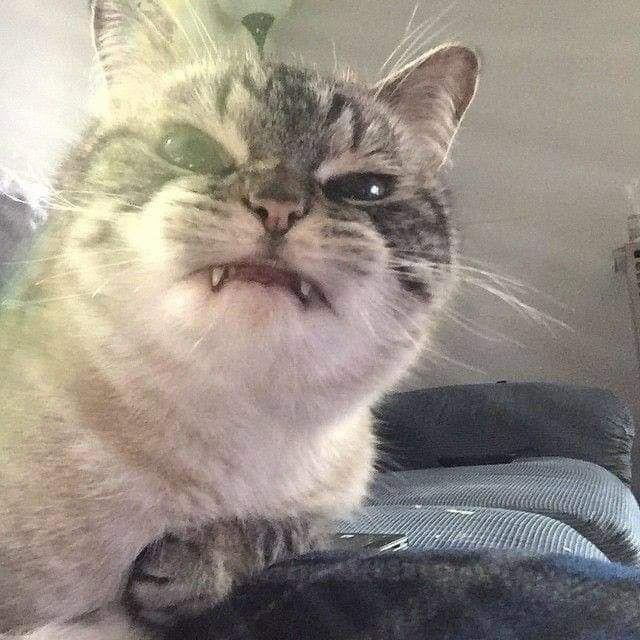cat: (8, 3, 482, 634)
